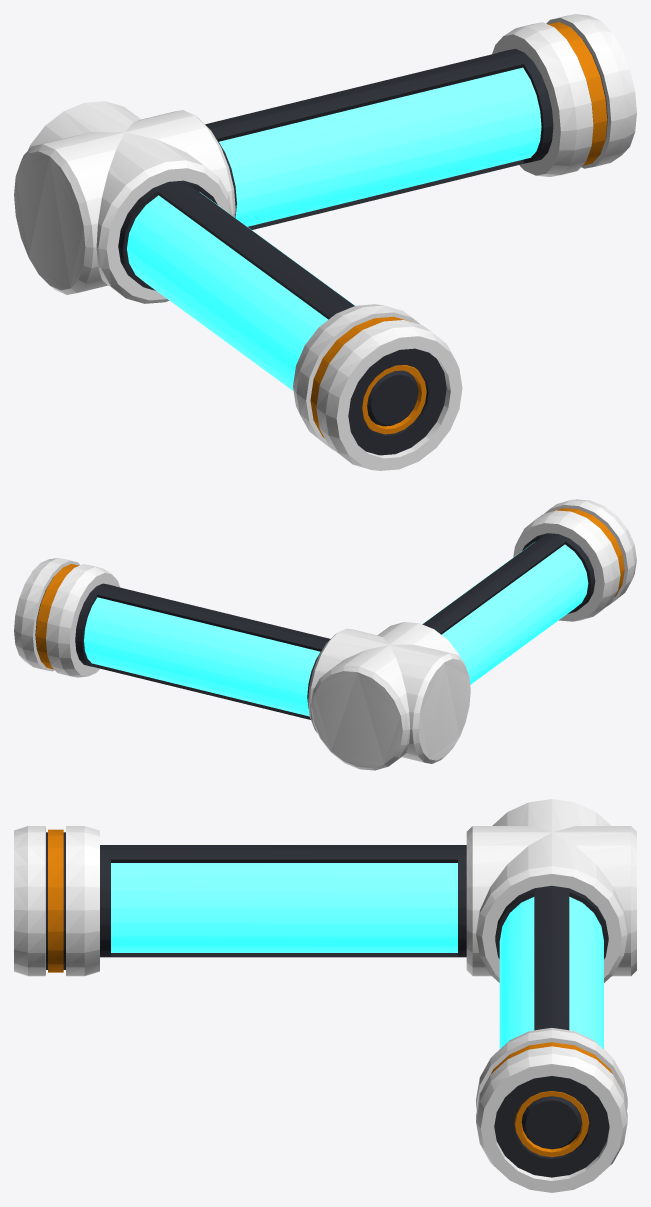
Rendered from SM_Cable_Small_Corner.fbx.
3 renders of one model, top to bottom at view 1: azimuth 30°, elevation 25°; view 2: azimuth 150°, elevation 25°; view 3: azimuth 270°, elevation 25°, orthographic. The views are drawn at different scales.
Visible parts, largest first — view 1: SM_Cable_Small_Corner; view 2: SM_Cable_Small_Corner; view 3: SM_Cable_Small_Corner.
Part boxes in pixels (x1=…): SM_Cable_Small_Corner: x1=14, y1=14, x2=636, y2=470; SM_Cable_Small_Corner: x1=14, y1=499, x2=636, y2=770; SM_Cable_Small_Corner: x1=14, y1=799, x2=636, y2=1192.
Size of the model in its own units: 57.89 by 14.09 by 57.89.
